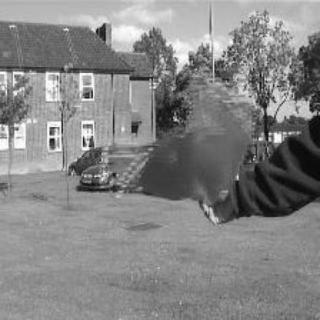other: (90, 78, 260, 204)
